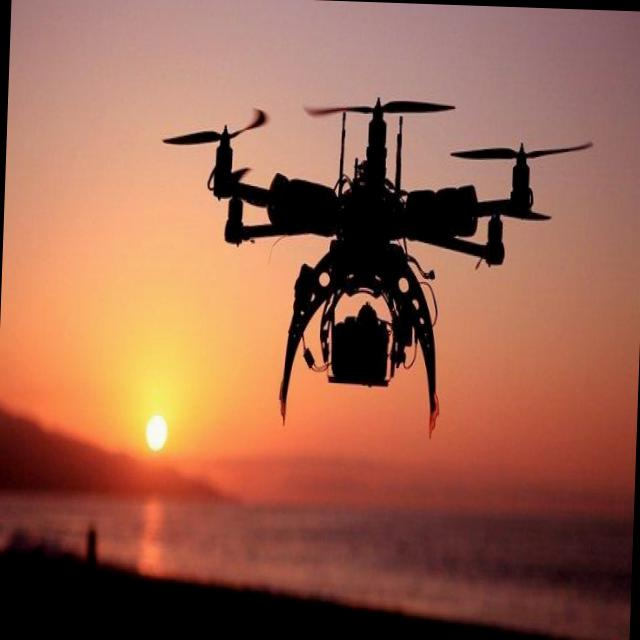drone: (148, 88, 593, 444)
